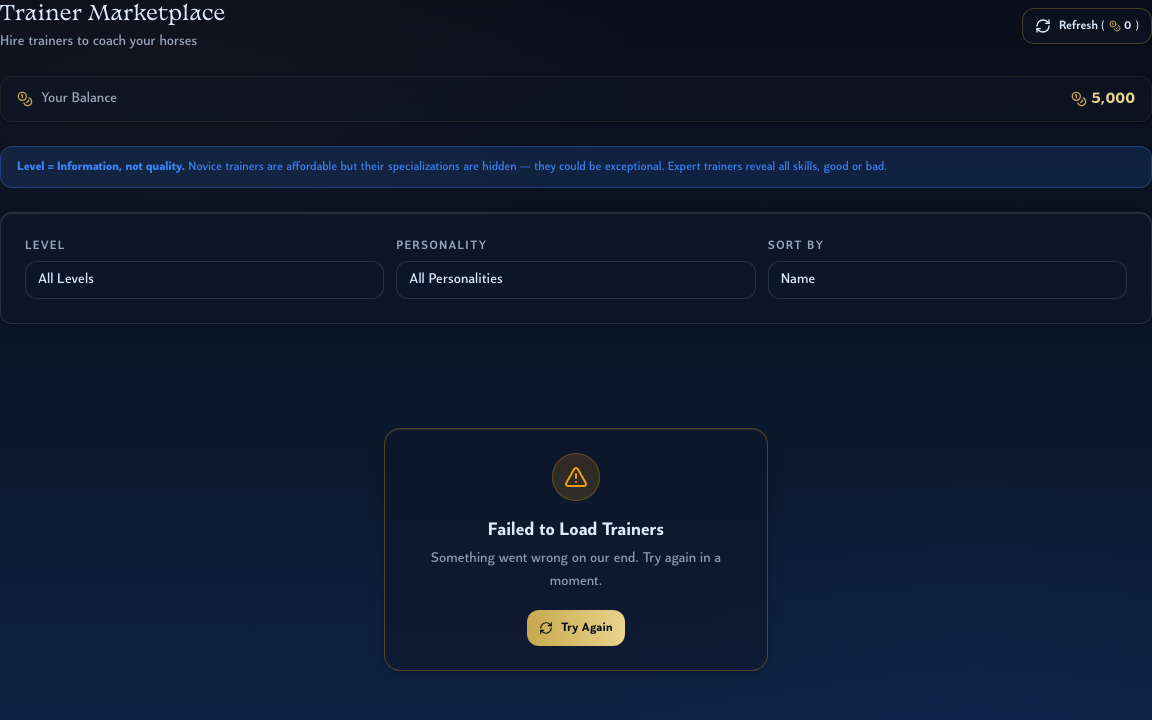
Test: TrainerList — load failure copy › retry on a failed load refetches the marketplace (it does not spend a refresh)
Click the button "Try Again" at (576, 628), box [527,610,625,646]
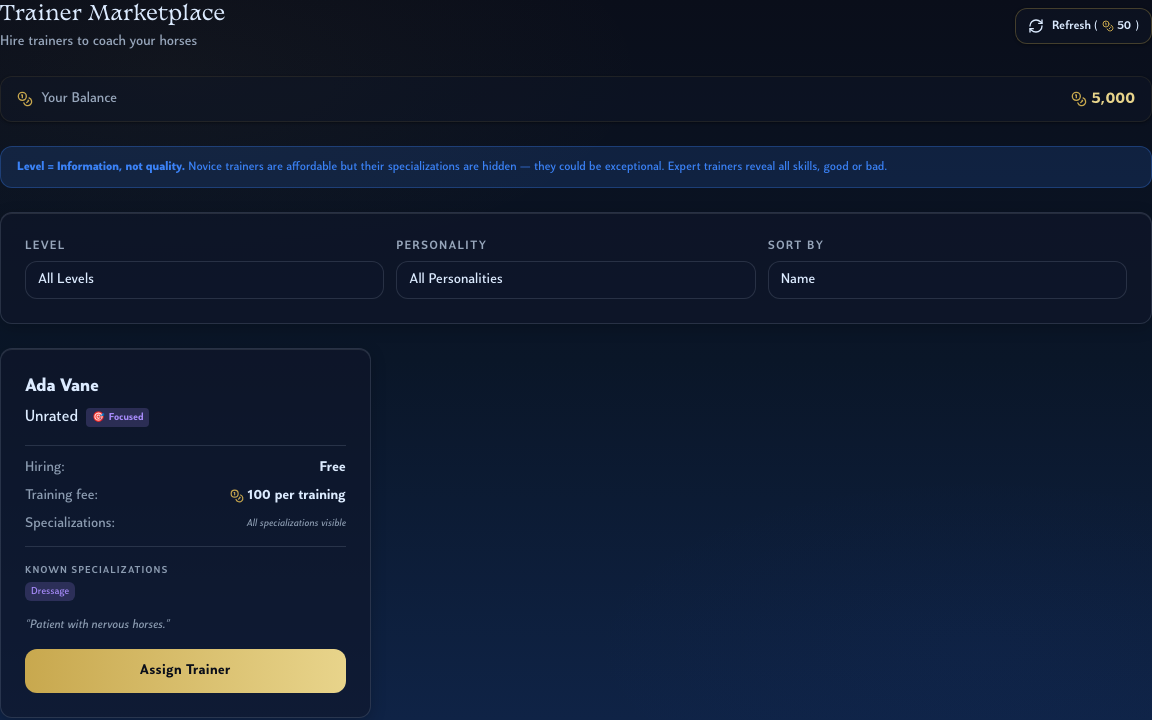
Check: the element with test id "trainer-card-mk-1" is shown, box [0,348,371,718]
